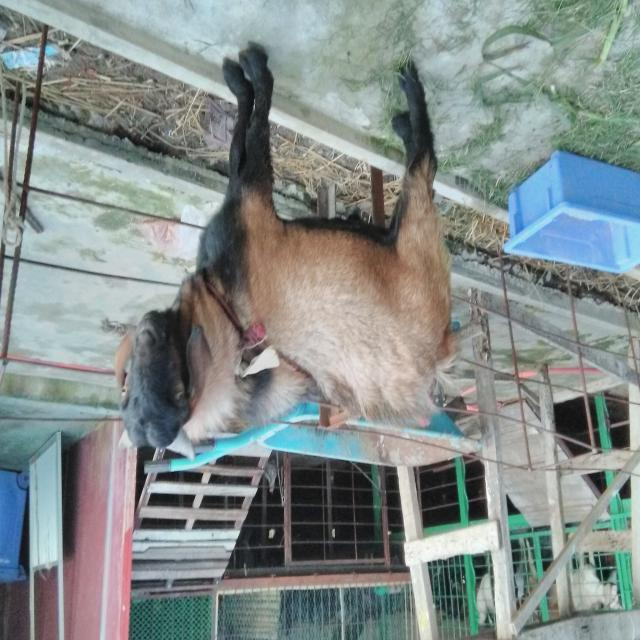Goat: (115, 44, 463, 463)
